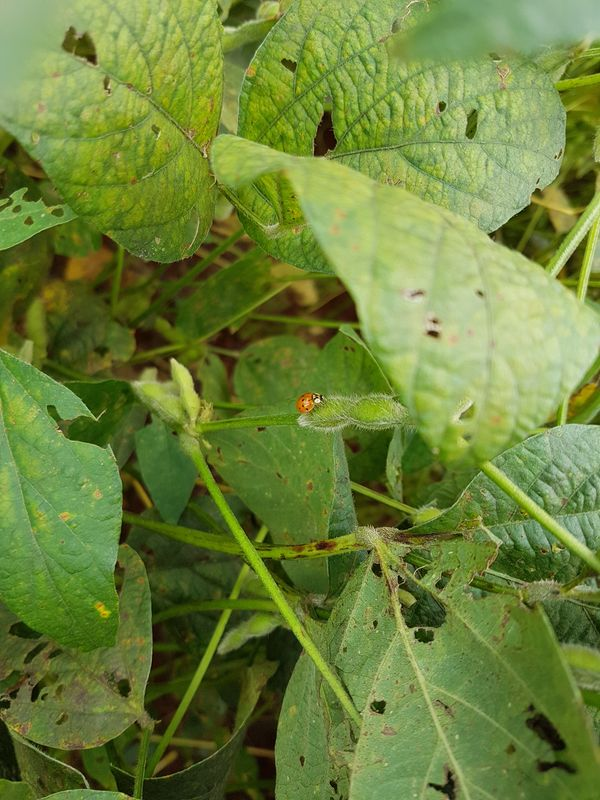Coccinellidae: (290, 386, 328, 421)
